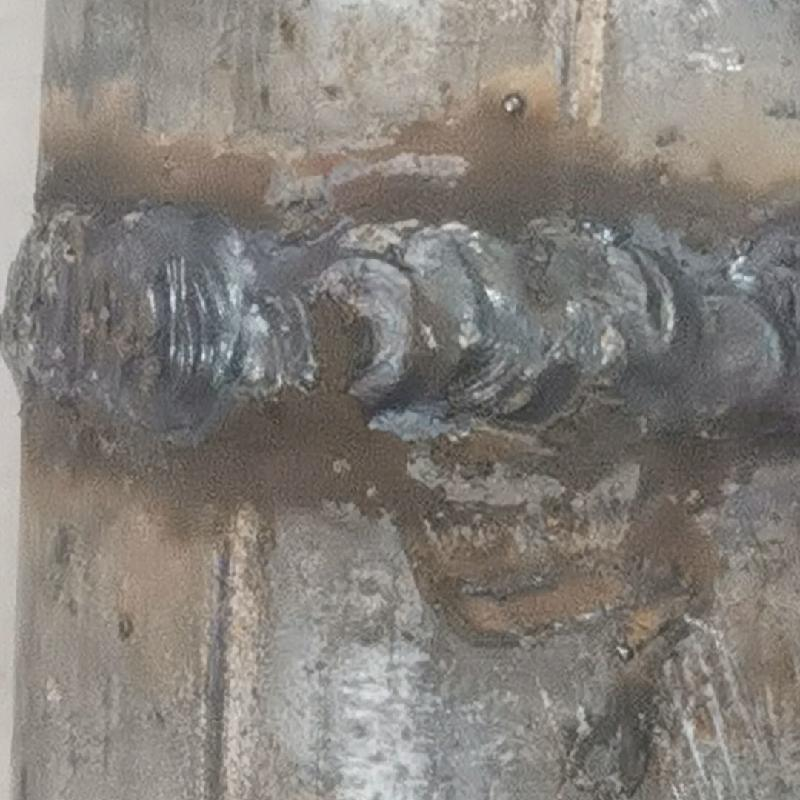good: (1, 190, 799, 445)
